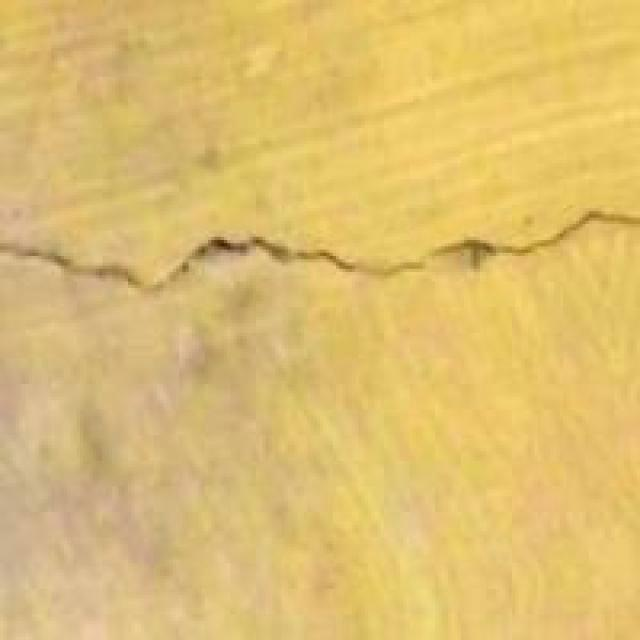crack: (10, 172, 640, 304)
